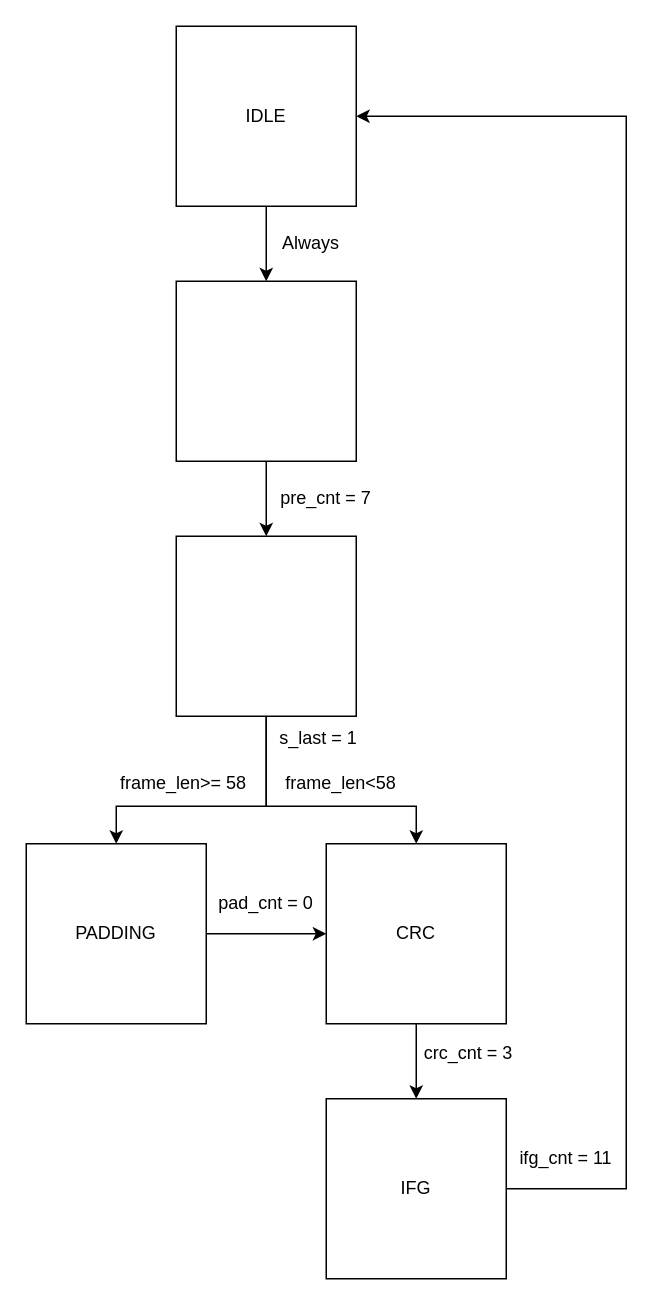
Image size: 665x1305. Some labels were removed from this diagram. The shapes that lost their labels are listed below. From the top down, each one's box as (x1, y1, x2, y2) in pixels, then its label:
(175, 280, 356, 461): PREAMBLE
(175, 535, 356, 716): PAYLOAD
